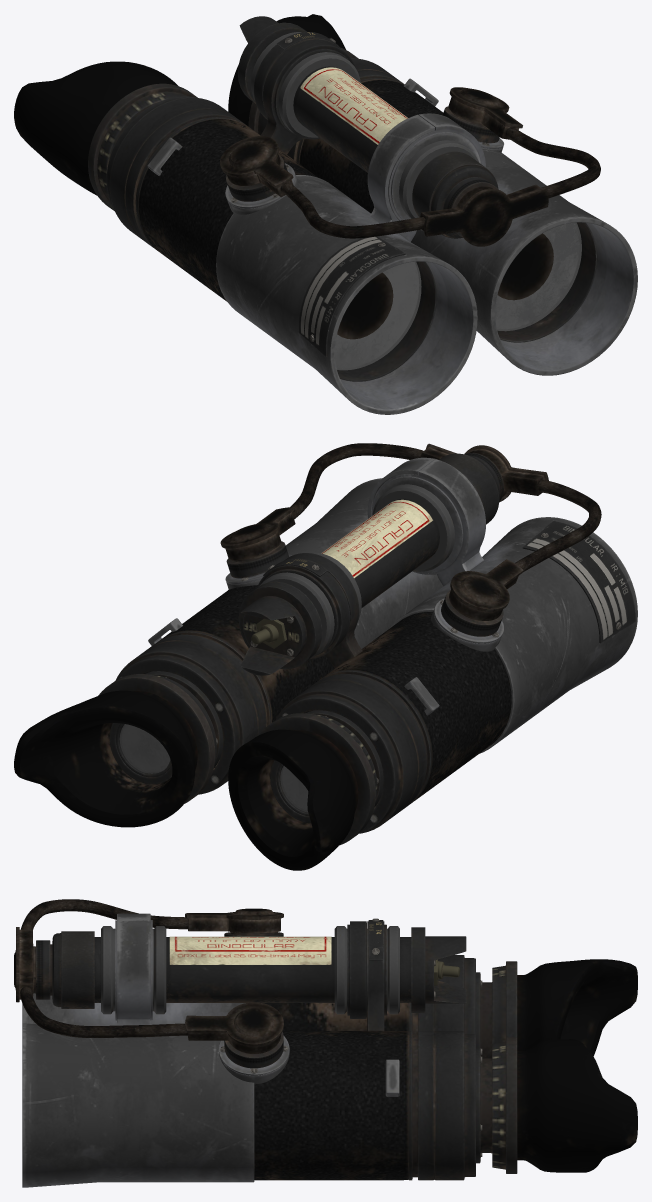
Rendered from ir_binoculars.glb.
3 renders of one model, top to bottom at view 1: azimuth 30°, elevation 25°; view 2: azimuth 150°, elevation 25°; view 3: azimuth 270°, elevation 25°, orthographic. The views are drawn at different scales.
Parts seen in each view (by area): view 1: FrontTube_R_LP, BackTube_R_LP, FrontTube_L_LP, EyeCup_R_LP, BackTube_L_LP, Plug_Male_C_LP, InfoPlaque_LP, ObjectiveLens_L_LP, ObjectiveLens_R_LP, TopSticker_LP, Plug_Male_R_LP, Diopter_R_LP (+12 smaller); view 2: BackTube_R_LP, FrontTube_R_LP, EyeCup_L_LP, BackTube_L_LP, EyeCup_R_LP, FrontTube_L_LP, Diopter_L_LP, ToggleSwitchBase_LP, Diopter_R_LP, InfoPlaque_LP, Plug_Male_R_LP, TopSticker_LP (+12 smaller); view 3: FrontTube_L_LP, BackTube_L_LP, EyeCup_L_LP, EyeCup_R_LP, Battery_LP, BackTube_R_LP, Diopter_L_LP, TopSticker_LP, Plug_Male_L_LP, Plug_Female_C_LP, Diopter_R_LP, FrontTube_R_LP (+10 smaller).
Part boxes in pixels (left/top/right/bottom): FrontTube_R_LP: left=216, top=114, right=477, bottom=414; BackTube_R_LP: left=106, top=39, right=436, bottom=381; FrontTube_L_LP: left=388, top=113, right=637, bottom=375; EyeCup_R_LP: left=14, top=61, right=177, bottom=195; BackTube_L_LP: left=254, top=38, right=596, bottom=342; Plug_Male_C_LP: left=420, top=177, right=548, bottom=246; InfoPlaque_LP: left=299, top=236, right=405, bottom=356; ObjectiveLens_L_LP: left=495, top=222, right=581, bottom=331; ObjectiveLens_R_LP: left=335, top=261, right=421, bottom=370; TopSticker_LP: left=300, top=67, right=408, bottom=144; Plug_Male_R_LP: left=220, top=136, right=293, bottom=201; Diopter_R_LP: left=88, top=83, right=197, bottom=210; BackTube_R_LP: left=276, top=553, right=511, bottom=833; FrontTube_R_LP: left=371, top=459, right=637, bottom=753; EyeCup_L_LP: left=14, top=690, right=197, bottom=827; BackTube_L_LP: left=115, top=565, right=350, bottom=794; EyeCup_R_LP: left=228, top=729, right=358, bottom=870; FrontTube_L_LP: left=285, top=457, right=443, bottom=648; Diopter_L_LP: left=98, top=671, right=223, bottom=803; ToggleSwitchBase_LP: left=238, top=581, right=322, bottom=675; Diopter_R_LP: left=258, top=710, right=383, bottom=845; InfoPlaque_LP: left=522, top=520, right=635, bottom=643; Plug_Male_R_LP: left=441, top=559, right=523, bottom=636; TopSticker_LP: left=321, top=499, right=433, bottom=578; FrontTube_L_LP: left=22, top=919, right=254, bottom=1187; BackTube_L_LP: left=254, top=921, right=475, bottom=1180; EyeCup_L_LP: left=517, top=1039, right=637, bottom=1172; EyeCup_R_LP: left=517, top=959, right=637, bottom=1055; Battery_LP: left=94, top=937, right=411, bottom=1002; BackTube_R_LP: left=262, top=921, right=475, bottom=1034; Diopter_L_LP: left=476, top=1037, right=517, bottom=1173; TopSticker_LP: left=169, top=936, right=331, bottom=964; Plug_Male_L_LP: left=185, top=1002, right=283, bottom=1068; Plug_Female_C_LP: left=50, top=931, right=94, bottom=1008; Diopter_R_LP: left=476, top=961, right=517, bottom=1058; FrontTube_R_LP: left=22, top=913, right=245, bottom=1025.
Size of the model in its own units: 0.1442 by 0.1008 by 0.2551.
2 materials, 2 textured.
